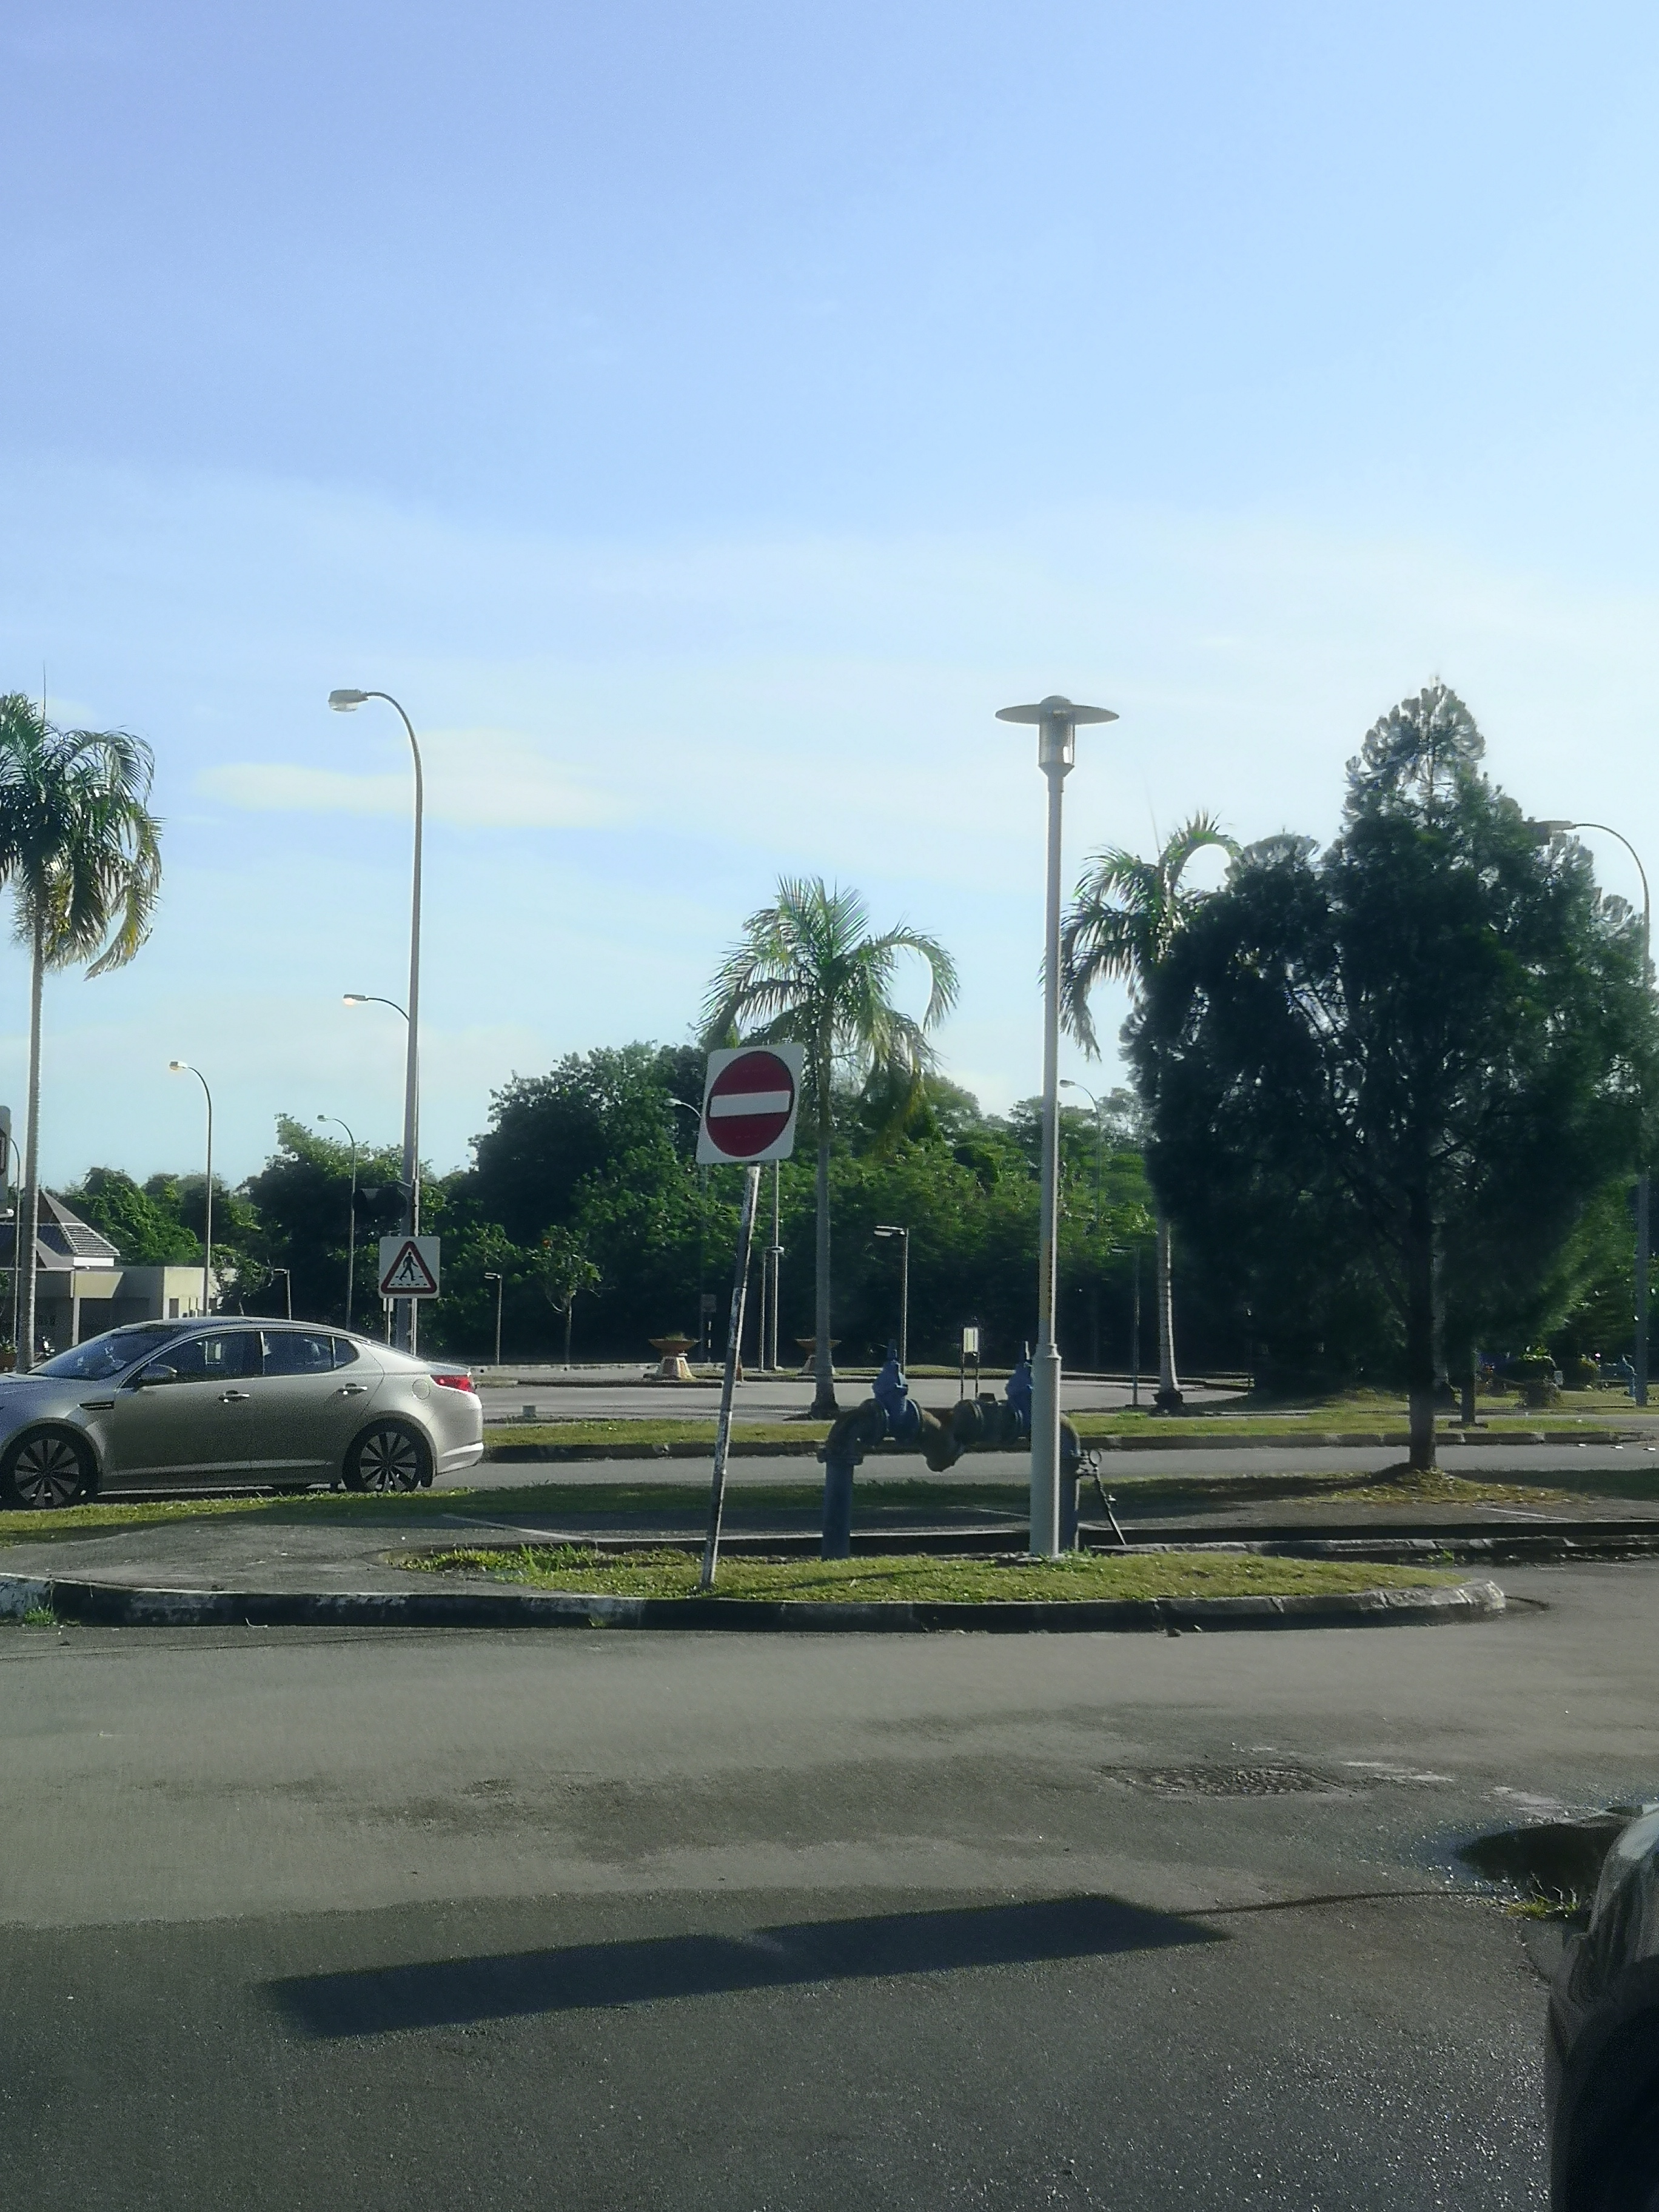no entry: (701, 1040, 796, 1162)
pedestrian crossing: (368, 1231, 443, 1308)
